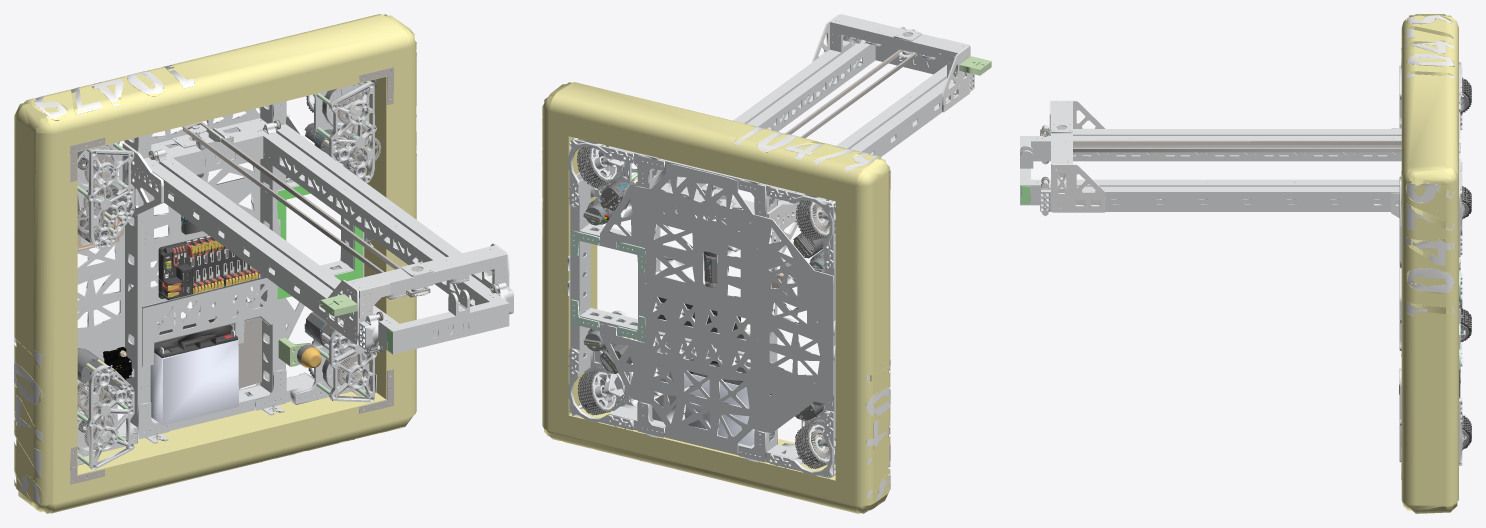
3 renders of one model, left to right at view 1: azimuth 30°, elevation 25°; view 2: azimuth 150°, elevation 25°; view 3: azimuth 270°, elevation 25°, orthographic. The views are drawn at different scales.
Parts seen in each view (by area): view 1: Bumper-Cover-10479251 (×4), object 465, Battery (am-0844)-10479251, object 676, Blackhole Swerve-MK2cA (BHR-MK2cA) - Simplified-10479251 (×4), Blackhole Swerve-MK2cB (BHR-MK2cB) - Simplified-10479251 (×3), object 525, object 660, object 786, object 533, object 244, object 758 (+18 smaller); view 2: Bumper-Cover-10479251 (×4), object 465, 10479-S2c-Plate-Bottom-A_250210 (×4), object 676, object 851, object 525, object 758, Blackhole Swerve-MK2cB (BHR-MK2cB) - Simplified-10479251 (×3), Blackhole Swerve-MK2cA (BHR-MK2cA) - Simplified-10479251 (×3), Battery (am-0844)-10479251, object 244, object 496 (+12 smaller); view 3: Bumper-Cover-10479251 (×3), object 987, object 244, object 496, object 676, object 525, object 1, object 758.
Part boxes in pixels (bbox=[...]): Bumper-Cover-10479251 (×4): bbox=[14, 14, 416, 513]; object 465: bbox=[77, 108, 304, 390]; Battery (am-0844)-10479251: bbox=[150, 318, 238, 425]; object 676: bbox=[263, 132, 502, 306]; Blackhole Swerve-MK2cA (BHR-MK2cA) - Simplified-10479251 (×4): bbox=[86, 149, 377, 404]; Blackhole Swerve-MK2cB (BHR-MK2cB) - Simplified-10479251 (×3): bbox=[86, 81, 376, 469]; object 525: bbox=[144, 157, 359, 344]; object 660: bbox=[142, 277, 284, 366]; object 786: bbox=[125, 137, 150, 427]; object 533: bbox=[386, 298, 509, 354]; object 244: bbox=[159, 158, 399, 349]; object 758: bbox=[347, 245, 507, 297]; Bumper-Cover-10479251 (×4): bbox=[542, 82, 890, 513]; object 465: bbox=[600, 163, 833, 453]; 10479-S2c-Plate-Bottom-A_250210 (×4): bbox=[568, 139, 834, 478]; object 676: bbox=[677, 39, 875, 187]; object 851: bbox=[570, 172, 590, 374]; object 525: bbox=[778, 76, 964, 214]; object 758: bbox=[830, 14, 968, 61]; Blackhole Swerve-MK2cB (BHR-MK2cB) - Simplified-10479251 (×3): bbox=[577, 142, 835, 468]; Blackhole Swerve-MK2cA (BHR-MK2cA) - Simplified-10479251 (×3): bbox=[577, 196, 835, 415]; Battery (am-0844)-10479251: bbox=[684, 359, 754, 446]; object 244: bbox=[778, 65, 946, 201]; object 496: bbox=[705, 50, 918, 199]; Bumper-Cover-10479251 (×3): bbox=[1401, 14, 1458, 513]; object 987: bbox=[1051, 186, 1399, 211]; object 244: bbox=[1031, 136, 1401, 161]; object 496: bbox=[1073, 140, 1401, 152]; object 676: bbox=[1031, 179, 1399, 205]; object 525: bbox=[1073, 129, 1401, 147]; object 1: bbox=[1051, 164, 1105, 212]; object 758: bbox=[1051, 101, 1072, 174].
Bounding box in the file's own units: 0.875 × 0.875 × 1.03.
